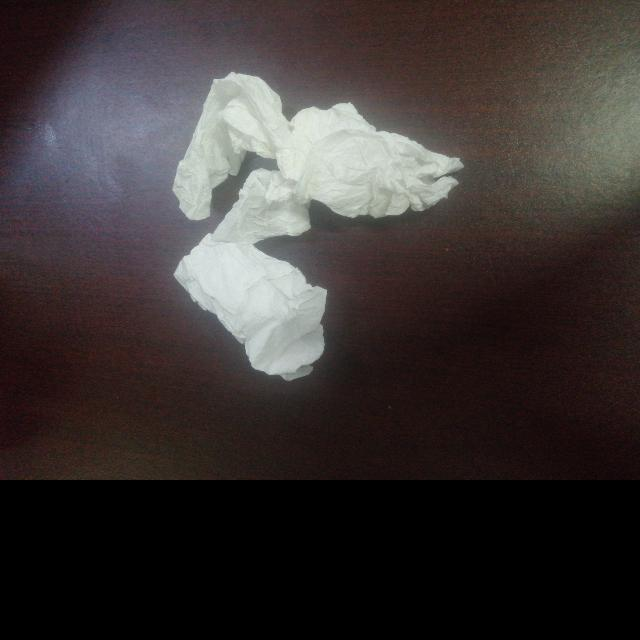kitchen paper: (166, 66, 472, 384)
